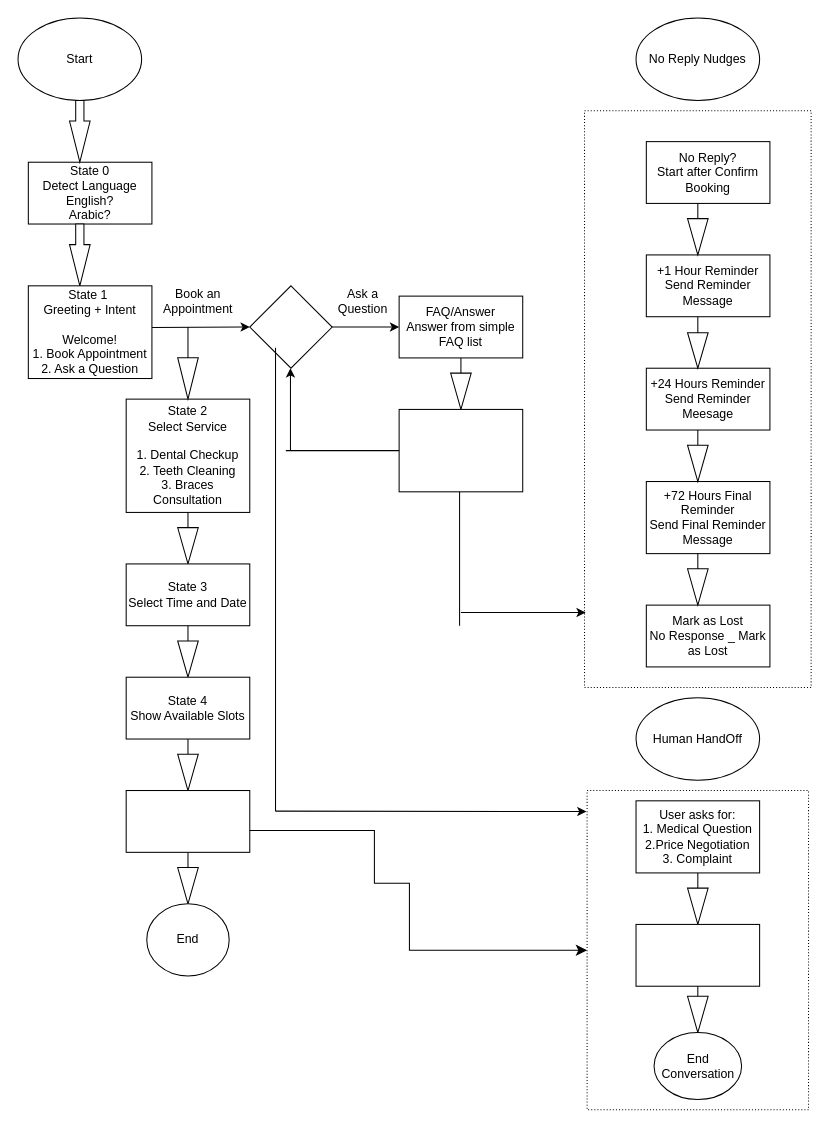
Image size: 829x1128. Some labels were removed from this diagram. The shapes that lost their labels are listed below. From the top down, each one's box as (x1, y1, x2, y2) in pixels, then its label:
(249, 285, 332, 368): User Intent?
(398, 408, 523, 492): Return to Intent Ask again: 1. Book an Appointment 2. Ask a Question
(125, 789, 250, 852): State 5 Confirm Booking
(635, 923, 760, 986): Transfer to Human Agent Live Agent takes over
